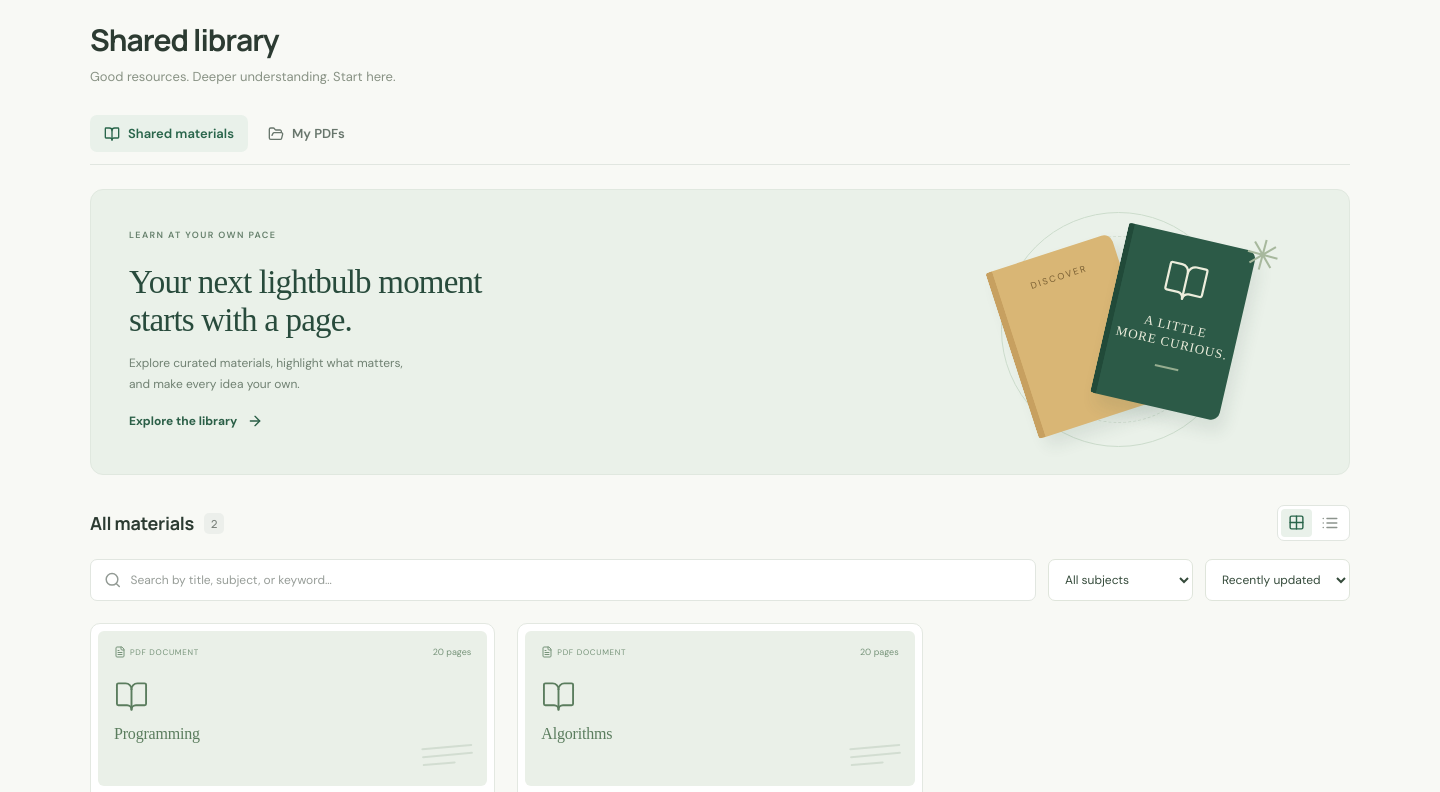
it: library browsing › combines subject and keyword filters, and clears an empty result
Type "review" into the field named "Search documents" at (576, 580), box [130,560,1022,600]
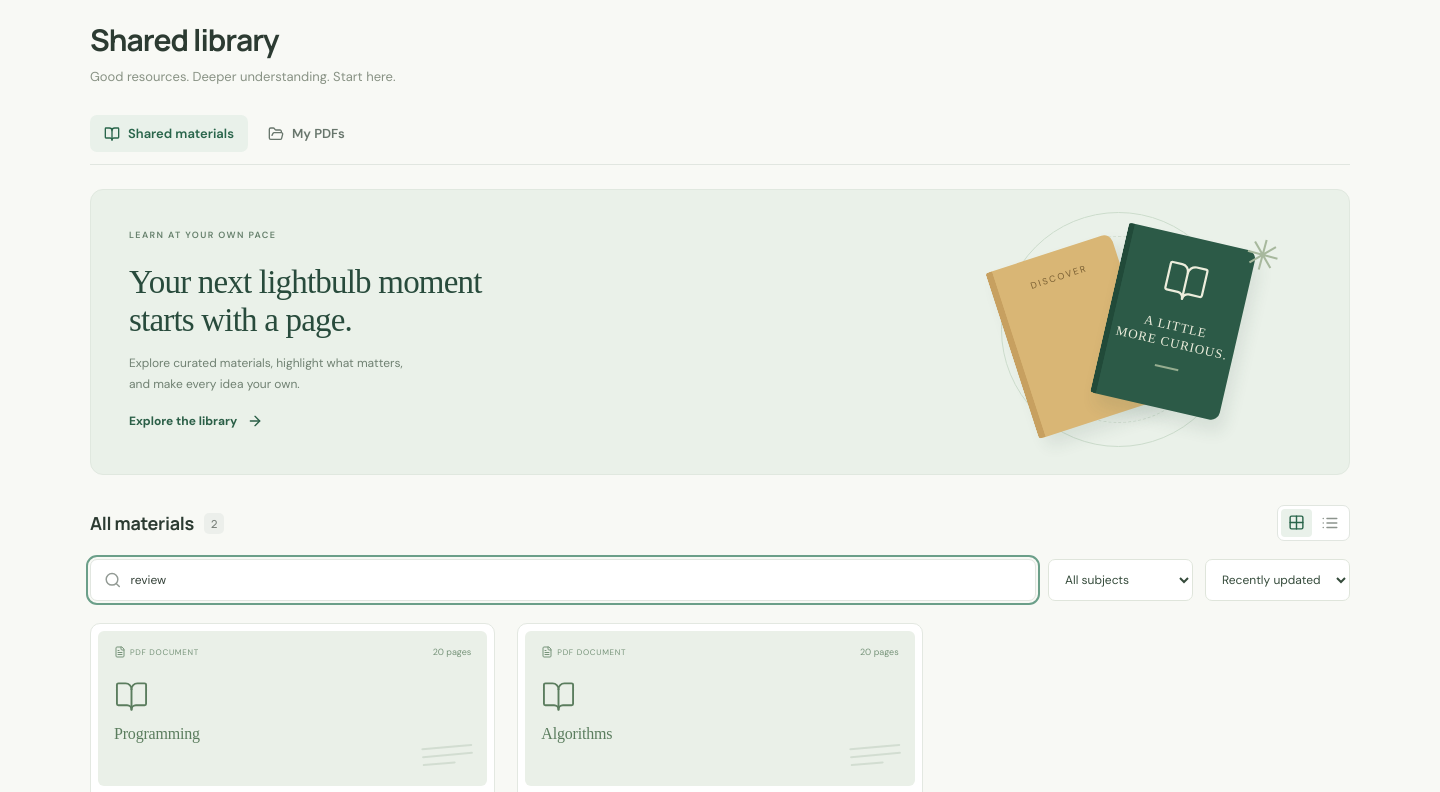
Select "Algorithms" in the dropdown named "Filter by subject" at (1120, 580), box [1048,559,1193,601]
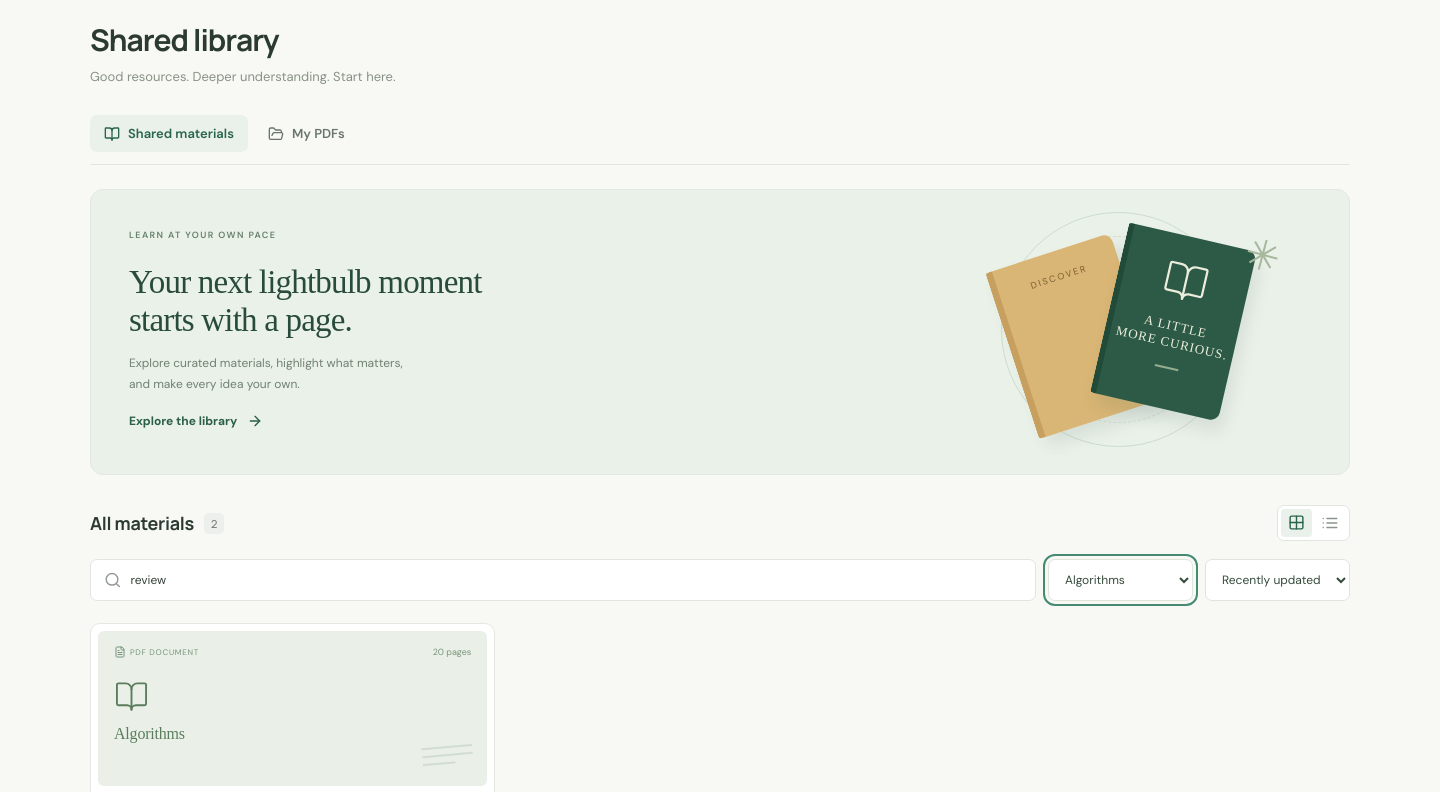
Expected: the link "Java Collections" is not shown
Type " hash" into the field named "Search documents" at (576, 580), box [130,560,1022,600]
(page scrolled)
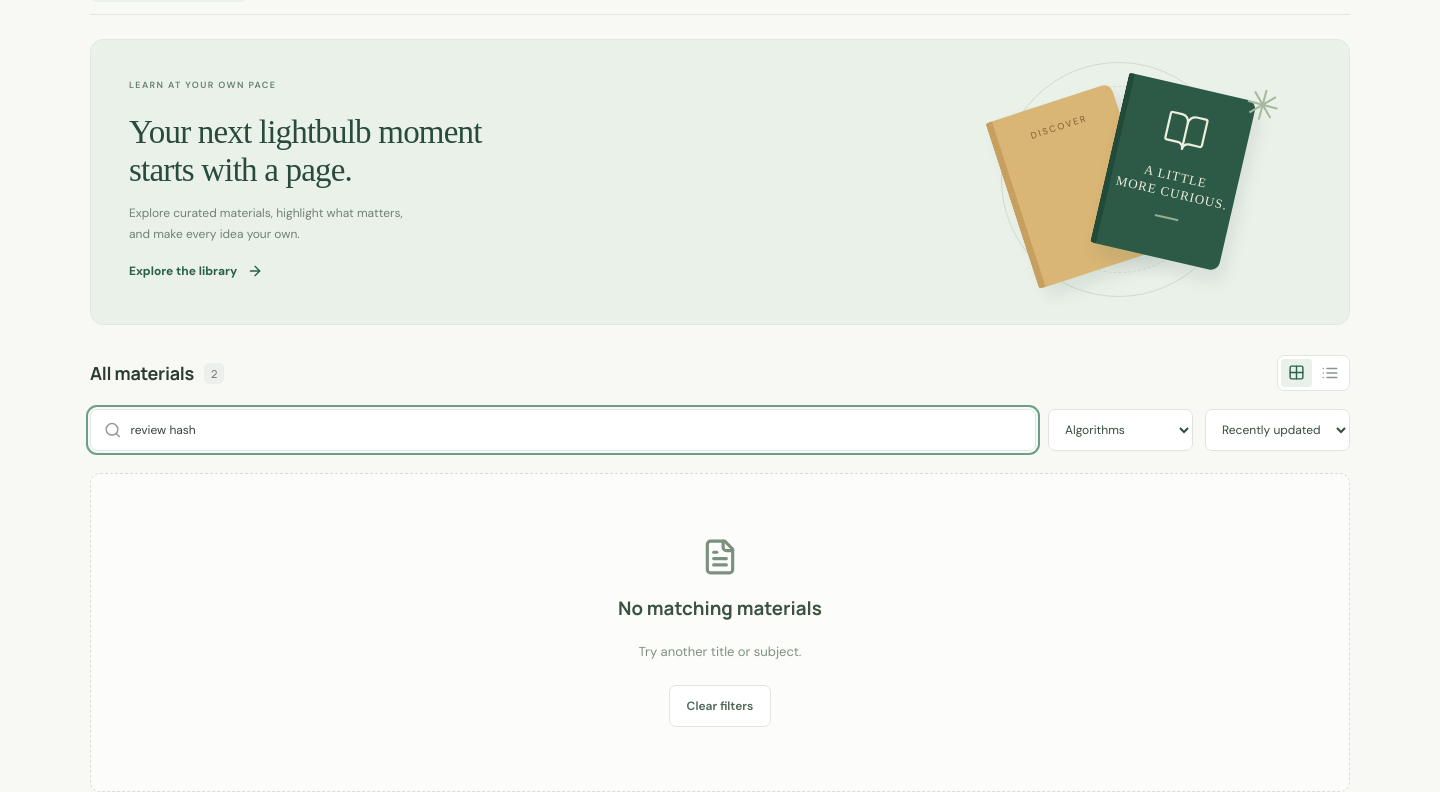
Result: the heading "No matching materials" is shown at [618,595,822,621]
Click the button "Clear filters" at (720, 706), box [669,685,771,727]
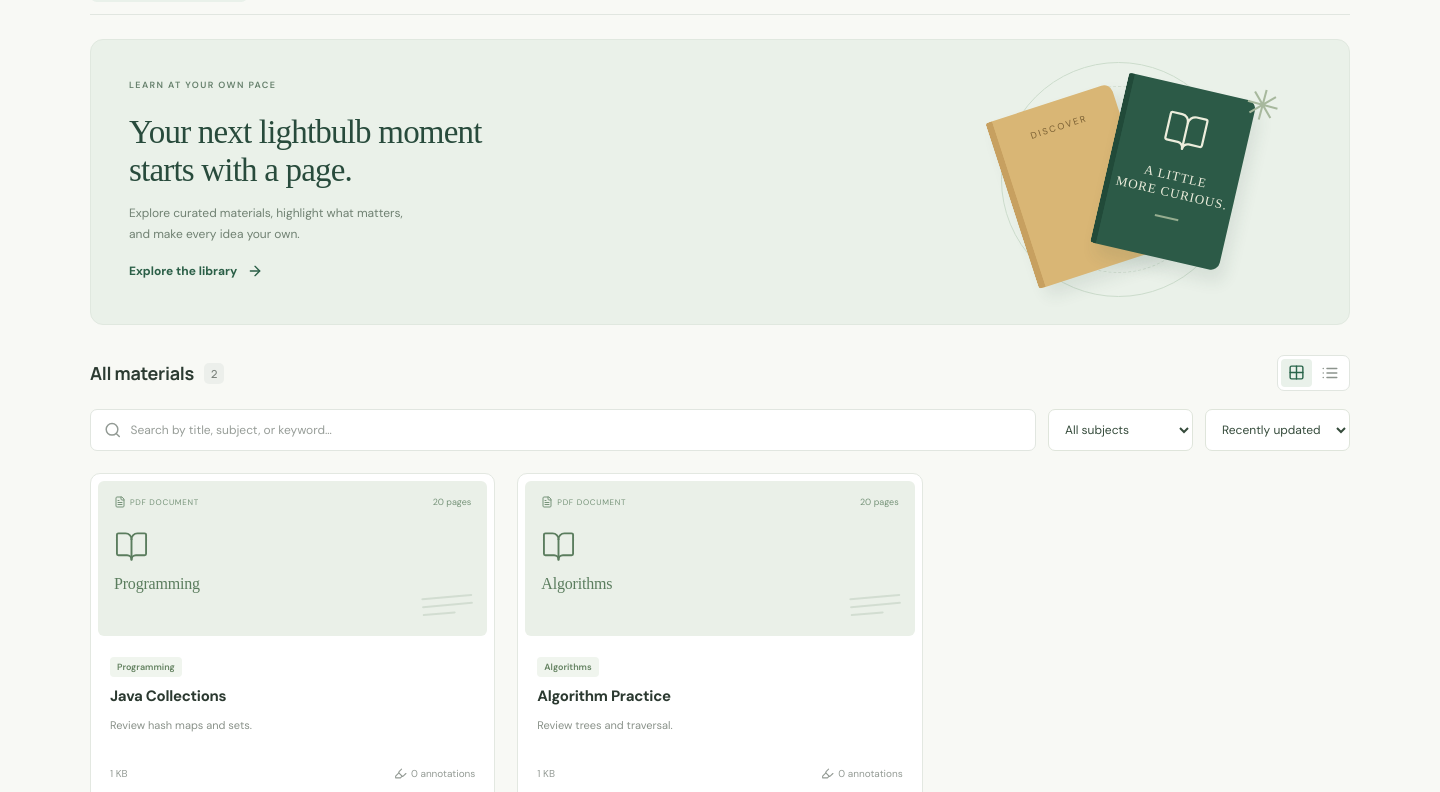
Result: the field named "Search documents" is empty at [130,410,1022,450]
Result: the link "Java Collections" is shown at [110,686,226,706]
Result: the link "Algorithm Practice" is shown at [537,686,671,706]
